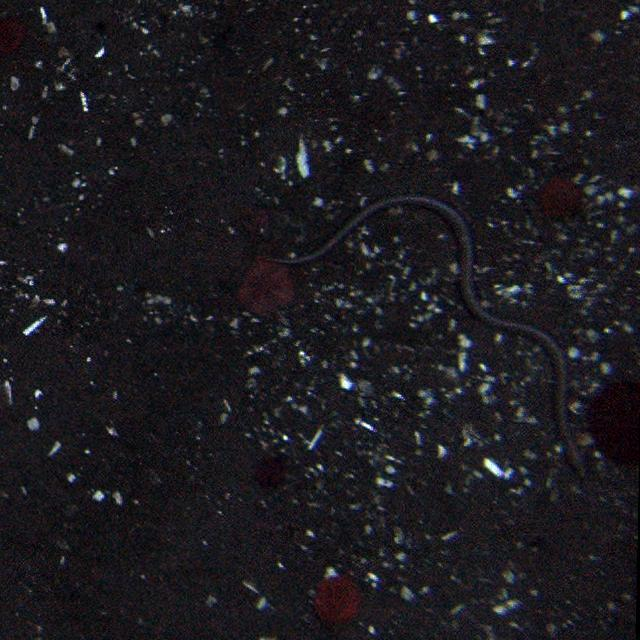eel: (272, 196, 594, 483)
